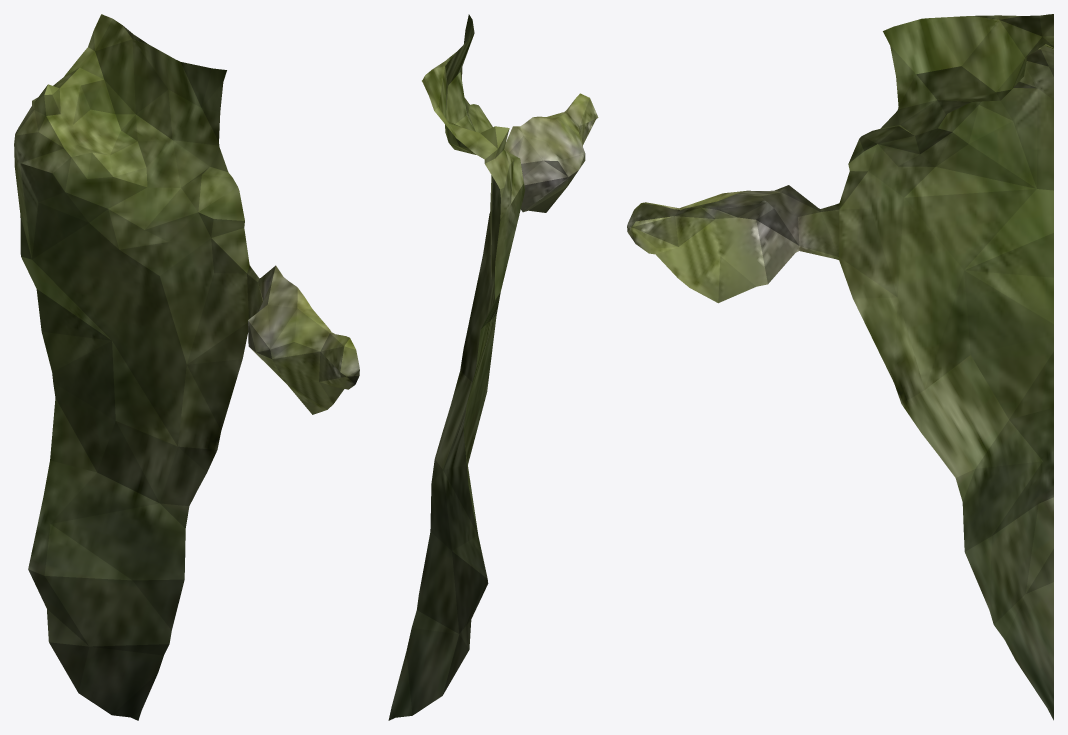
3 renders of one model, left to right at view 1: azimuth 30°, elevation 25°; view 2: azimuth 150°, elevation 25°; view 3: azimuth 270°, elevation 25°, orthographic. The views are drawn at different scales.
Bounding box in the file's own units: 0.5371 × 2.9 × 1.63.
Materials: 1 (1 with a texture image).
